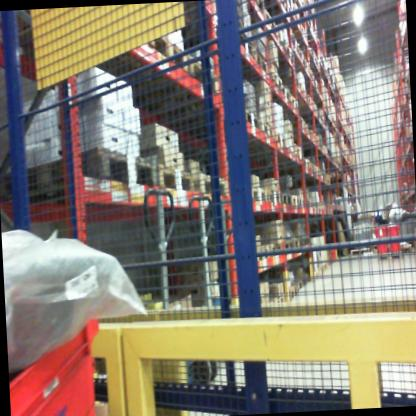pallet: (0, 139, 156, 212), (139, 17, 191, 71), (186, 48, 229, 100), (187, 160, 233, 199), (152, 159, 192, 192), (223, 22, 258, 58), (245, 173, 267, 212), (261, 178, 281, 211), (262, 287, 287, 313), (263, 65, 283, 93), (259, 116, 278, 141), (252, 44, 267, 73), (248, 106, 264, 133), (274, 124, 289, 151), (376, 249, 402, 262), (269, 236, 283, 257), (278, 187, 293, 206), (281, 236, 296, 252), (296, 190, 307, 210), (349, 246, 371, 256), (281, 83, 291, 105), (296, 275, 306, 295), (289, 189, 299, 207), (400, 240, 412, 255), (291, 89, 300, 109), (288, 284, 297, 301), (292, 235, 301, 250)
pallet_truck: (133, 171, 200, 385), (161, 184, 228, 398)
small_load_carrier: (8, 311, 119, 416), (385, 220, 401, 240), (370, 222, 387, 240), (372, 239, 387, 253), (389, 240, 400, 252)
